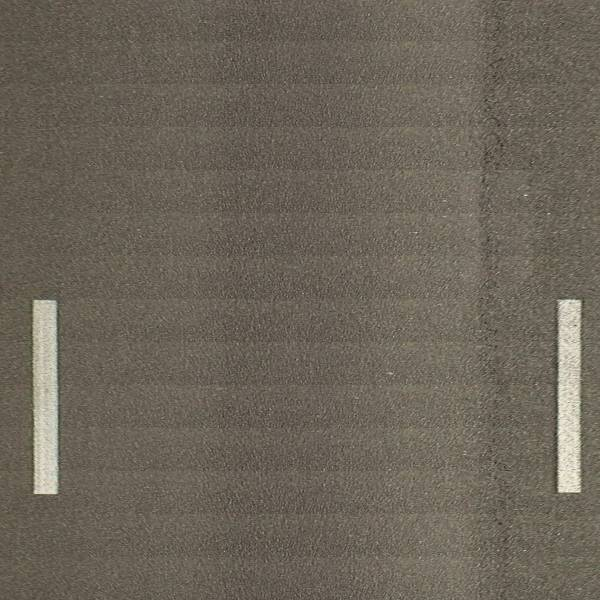road_damage: (476, 304, 513, 566), (480, 50, 513, 182)
